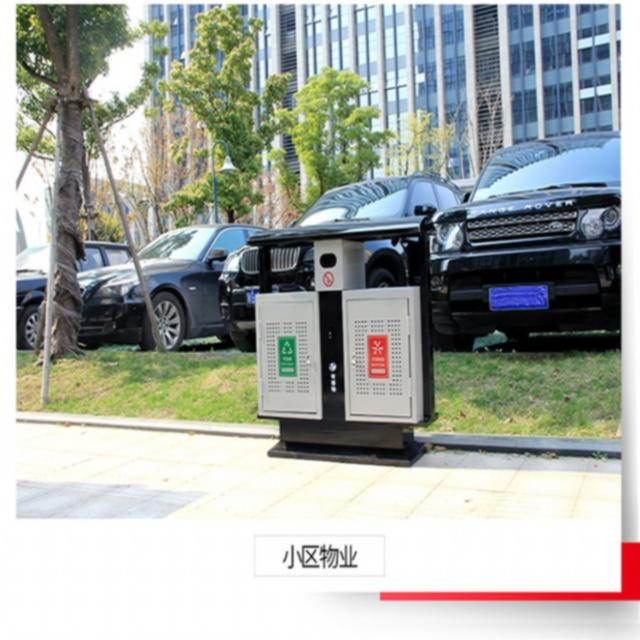ash bin: (244, 211, 438, 468)
car: (222, 171, 458, 354), (433, 130, 623, 349), (73, 223, 263, 349), (17, 239, 131, 351)
